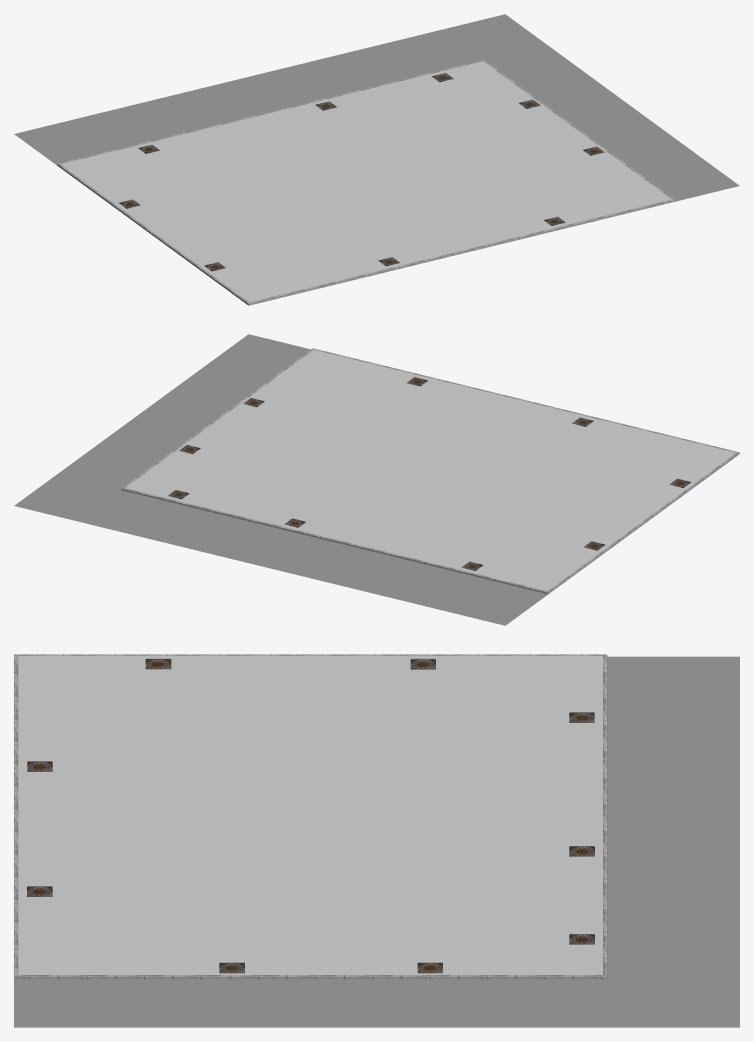
The model's file is streetsection2_2.FBX.
3 renders of one model, top to bottom at view 1: azimuth 30°, elevation 25°; view 2: azimuth 150°, elevation 25°; view 3: azimuth 270°, elevation 25°, orthographic. The views are drawn at different scales.
Parts seen in each view (by area): view 1: street_section2_2, street_section2_2_center, grate008; view 2: street_section2_2, street_section2_2_center, grate008; view 3: street_section2_2, street_section2_2_center, grate008.
Boxes of the visible parts, x1=… form: street_section2_2: x1=14, y1=14, x2=739, y2=305; street_section2_2_center: x1=148, y1=101, x2=576, y2=262; grate008: x1=119, y1=73, x2=603, y2=271; street_section2_2: x1=14, y1=334, x2=739, y2=625; street_section2_2_center: x1=217, y1=391, x2=646, y2=552; grate008: x1=168, y1=377, x2=690, y2=570; street_section2_2: x1=14, y1=654, x2=739, y2=1027; street_section2_2_center: x1=134, y1=695, x2=493, y2=931; grate008: x1=27, y1=659, x2=594, y2=973.
Size of the model in its own units: 3428 by 37.18 by 2836.
